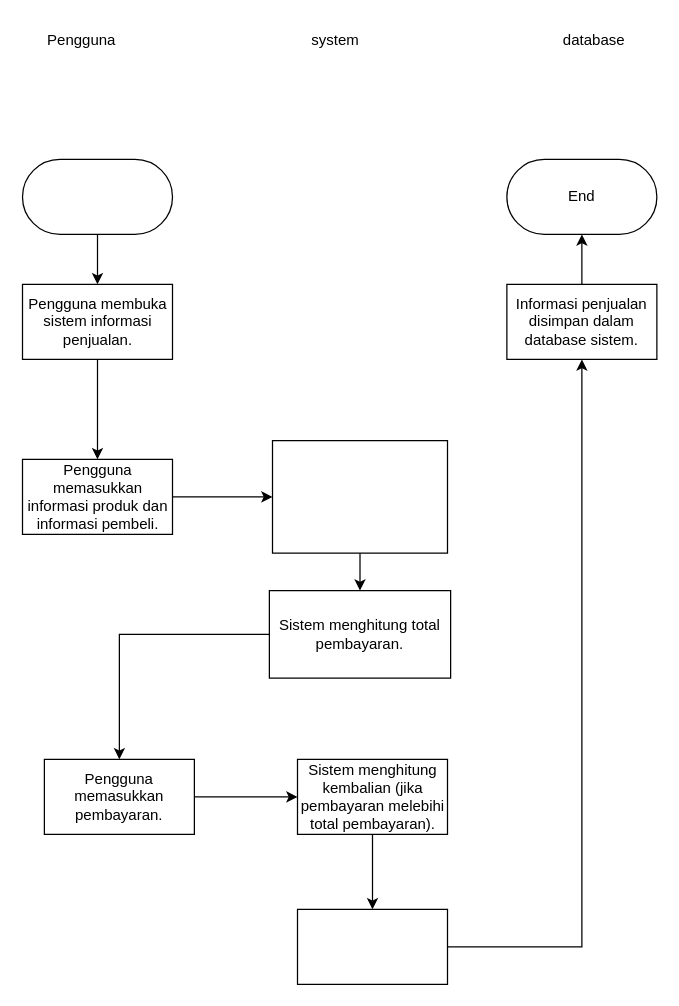
Some shapes in this 679 by 1006 pixel diagram are drawn without their labels. The centre of each missing label's shape, as x and y in pixels:
Sistem melakukan validasi terhadap informasi yang dimasukkan.: the point at 359,496
Sistem mencetak struk pembayaran.: the point at 372,946
Start: the point at 96,196
